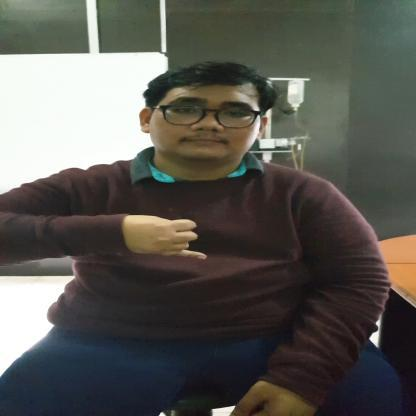J: (118, 214, 209, 260)
